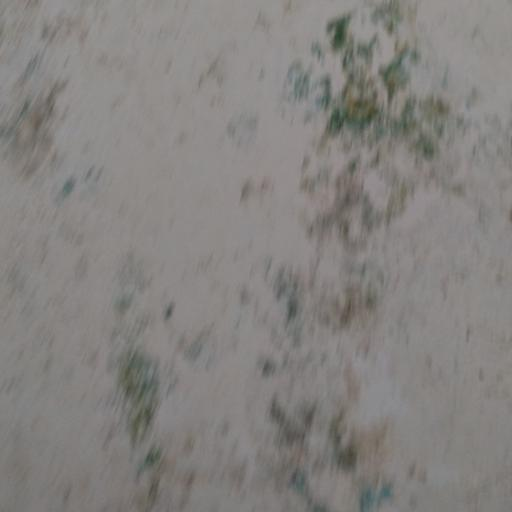algae: (246, 10, 483, 458)
